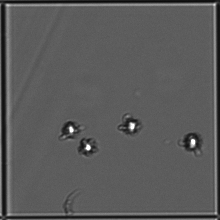Living Cell: (119, 115, 142, 135), (182, 132, 202, 153), (77, 137, 98, 156), (60, 119, 80, 137)
